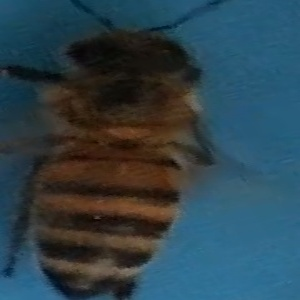bee: (5, 2, 230, 300)
